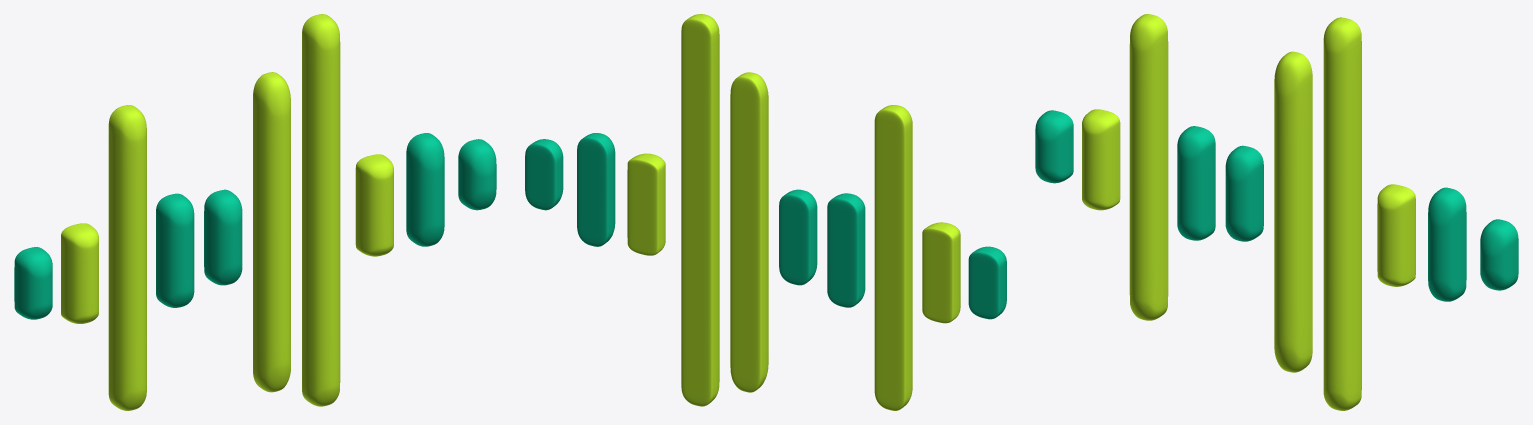
File: equalizer-3d-animated-icon-1600618104236.glb
3 renders of one model, left to right at view 1: azimuth 30°, elevation 25°; view 2: azimuth 150°, elevation 25°; view 3: azimuth 330°, elevation 25°, orthographic.
Visible parts, largest first — view 1: Plane.039, Plane.040, Plane.036, Plane.037, Plane.042, Plane.041, Plane.035, Plane.038, Plane.034, Plane.043; view 2: Plane.039, Plane.040, Plane.036, Plane.037, Plane.042, Plane.041, Plane.035, Plane.038, Plane.034, Plane.043; view 3: Plane.039, Plane.040, Plane.036, Plane.037, Plane.042, Plane.041, Plane.035, Plane.038, Plane.034, Plane.043.
Part boxes in pixels (bbox=[...]): Plane.039: bbox=[302, 14, 340, 406]; Plane.040: bbox=[253, 72, 290, 392]; Plane.036: bbox=[108, 105, 146, 410]; Plane.037: bbox=[156, 193, 194, 307]; Plane.042: bbox=[406, 133, 444, 246]; Plane.041: bbox=[355, 154, 393, 256]; Plane.035: bbox=[61, 223, 98, 323]; Plane.038: bbox=[204, 189, 242, 285]; Plane.034: bbox=[14, 247, 52, 319]; Plane.043: bbox=[458, 139, 496, 210]; Plane.039: bbox=[681, 14, 719, 406]; Plane.040: bbox=[730, 72, 768, 392]; Plane.036: bbox=[874, 105, 912, 410]; Plane.037: bbox=[827, 193, 865, 307]; Plane.042: bbox=[577, 133, 615, 246]; Plane.041: bbox=[627, 153, 665, 255]; Plane.035: bbox=[922, 222, 960, 323]; Plane.038: bbox=[779, 189, 817, 285]; Plane.034: bbox=[968, 246, 1006, 319]; Plane.043: bbox=[525, 139, 563, 210]; Plane.039: bbox=[1323, 17, 1361, 410]; Plane.040: bbox=[1274, 51, 1312, 372]; Plane.036: bbox=[1129, 14, 1168, 320]; Plane.037: bbox=[1177, 126, 1215, 240]; Plane.042: bbox=[1428, 187, 1466, 301]; Plane.041: bbox=[1377, 184, 1415, 286]; Plane.035: bbox=[1082, 109, 1120, 210]; Plane.038: bbox=[1225, 145, 1263, 241]; Plane.034: bbox=[1035, 110, 1073, 183]; Plane.043: bbox=[1480, 219, 1518, 290].
Bounding box in the file's own units: 5.36 × 4.17 × 0.3.
